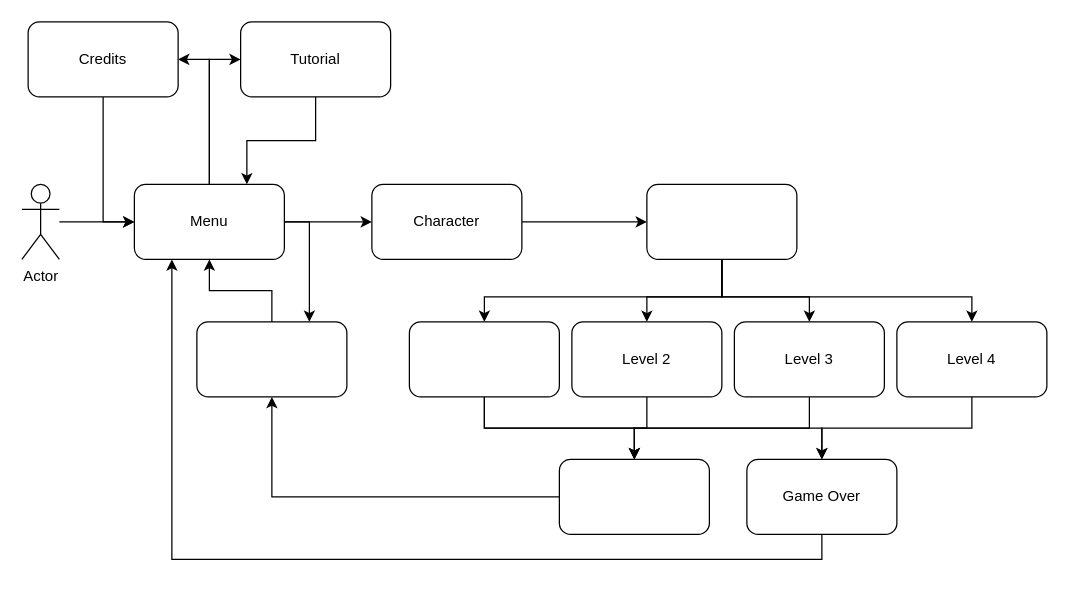
Some shapes in this 1069 by 591 pixel diagram are drawn without their labels. The centre of each missing label's shape, as x and y in pixels:
Level 1: point (483, 359)
Levels: point (721, 221)
Scoreboard: point (271, 359)
Your Score: point (633, 496)
